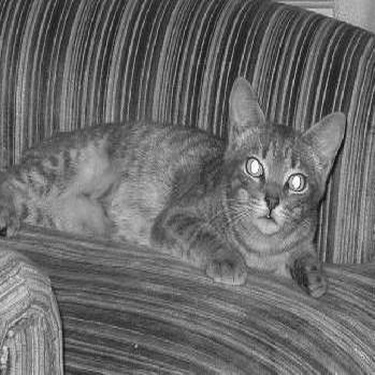cat: (1, 68, 353, 304)
